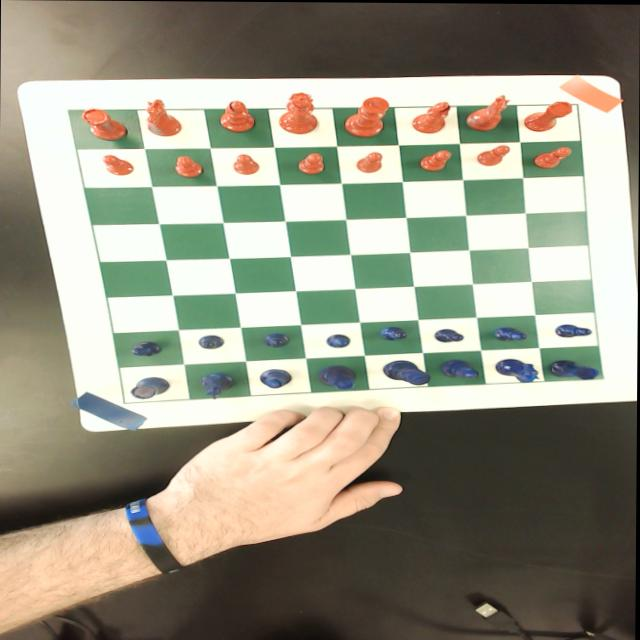B: (440, 359, 478, 379), (260, 369, 292, 389)
K: (382, 359, 432, 385)
N: (496, 358, 541, 382), (199, 373, 235, 399)
P: (555, 322, 593, 338), (127, 340, 163, 356), (493, 326, 528, 341), (196, 334, 226, 350), (261, 332, 291, 348), (324, 332, 352, 349), (379, 325, 407, 341), (435, 328, 465, 342)
Q: (319, 364, 356, 389)
R: (547, 359, 599, 380), (131, 376, 170, 400)
b: (411, 100, 451, 133), (217, 100, 255, 132)
k: (343, 96, 389, 137)
n: (464, 93, 512, 131), (144, 99, 182, 137)
p: (533, 146, 572, 168), (476, 144, 510, 166), (419, 149, 451, 171), (172, 156, 203, 178), (100, 155, 134, 175), (296, 152, 325, 174), (355, 151, 382, 173), (233, 154, 259, 175)
q: (278, 92, 318, 134)
r: (80, 107, 129, 141), (522, 101, 572, 132)
